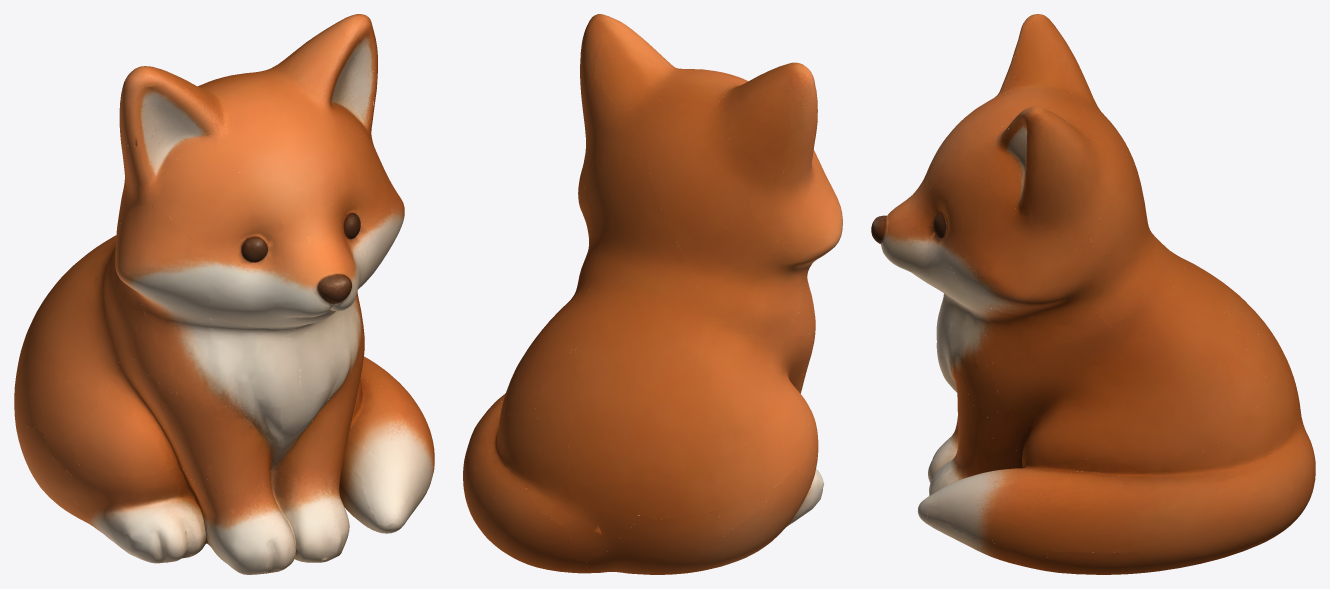
File: fox.glb
The picture shows the model from 3 angles, left to right: view 1: azimuth 30°, elevation 25°; view 2: azimuth 150°, elevation 25°; view 3: azimuth 270°, elevation 25°; orthographic projection. The views are drawn at different scales.
Visible parts, largest first — view 1: Fox · Tripo terracotta; view 2: Fox · Tripo terracotta; view 3: Fox · Tripo terracotta.
Boxes of the visible parts, x1,y1,x2,y2 form: Fox · Tripo terracotta: (14,14,434,574); Fox · Tripo terracotta: (463,14,842,574); Fox · Tripo terracotta: (871,14,1315,574).
Size of the model in its own units: 0.5045 by 0.68 by 0.6204.
1 material, 1 textured.
